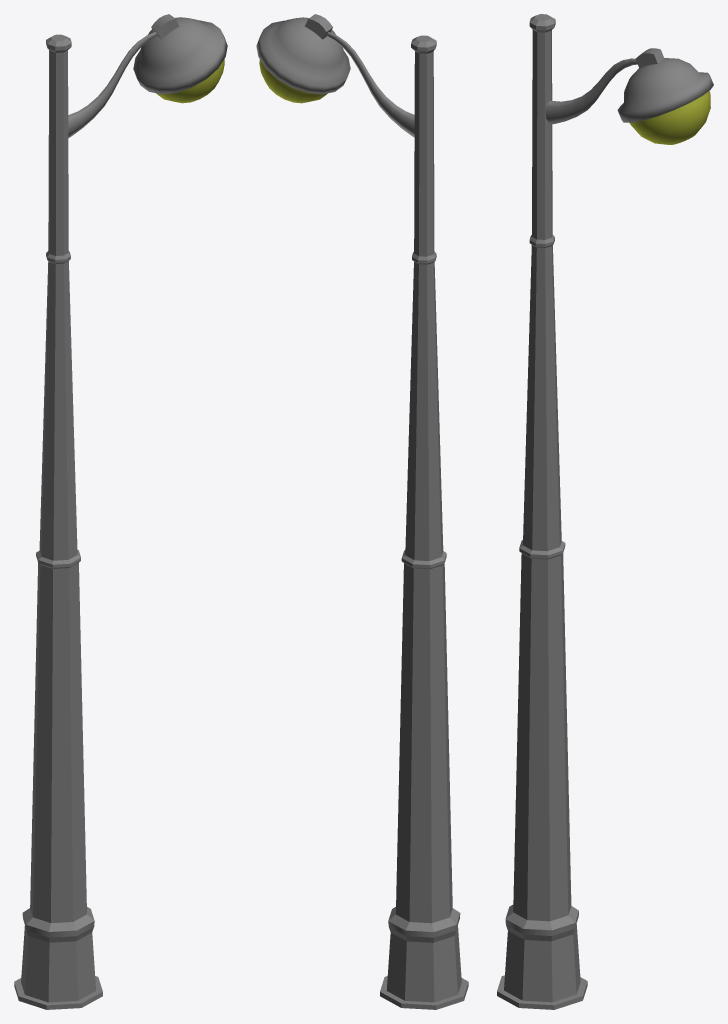
File: SM_lamp_street_03.fbx
The picture shows the model from 3 angles, left to right: view 1: azimuth 30°, elevation 25°; view 2: azimuth 150°, elevation 25°; view 3: azimuth 330°, elevation 25°; orthographic projection. The views are drawn at different scales.
Parts seen in each view (by area): view 1: Cylinder015; view 2: Cylinder015; view 3: Cylinder015.
Part boxes in pixels (box(x1,y1,x2,y2)): Cylinder015: box(14, 14, 227, 1009); Cylinder015: box(256, 14, 468, 1009); Cylinder015: box(497, 14, 713, 1009).
Bounding box in the file's own units: 43.75 × 198 × 18.39.
